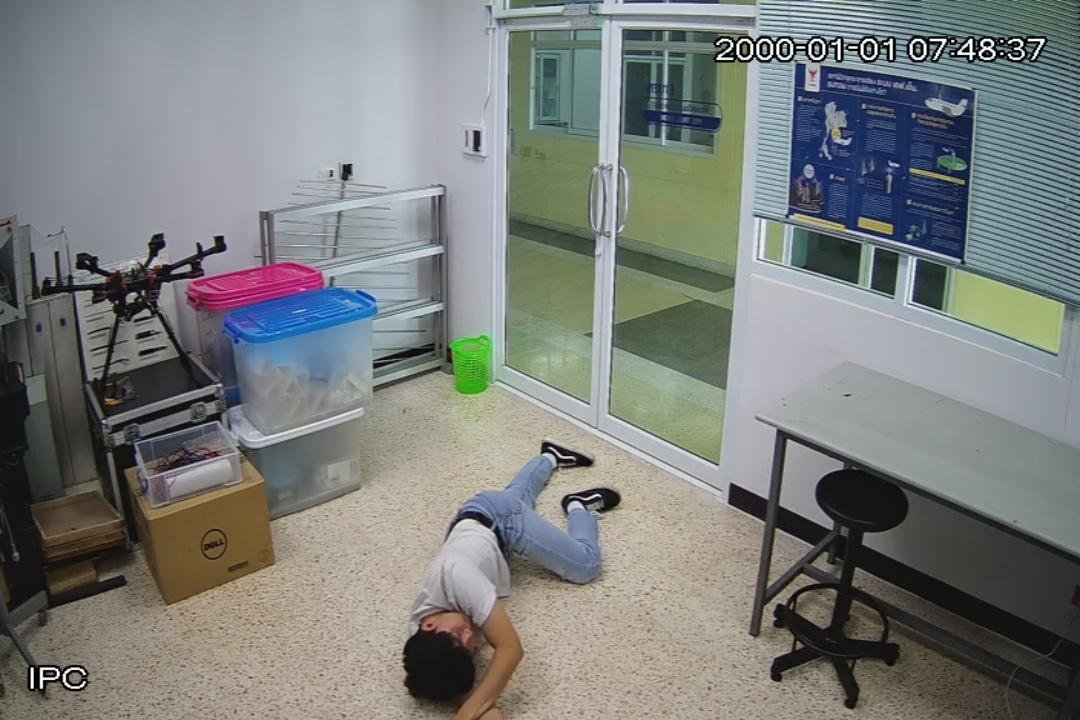fall: (394, 436, 622, 720)
